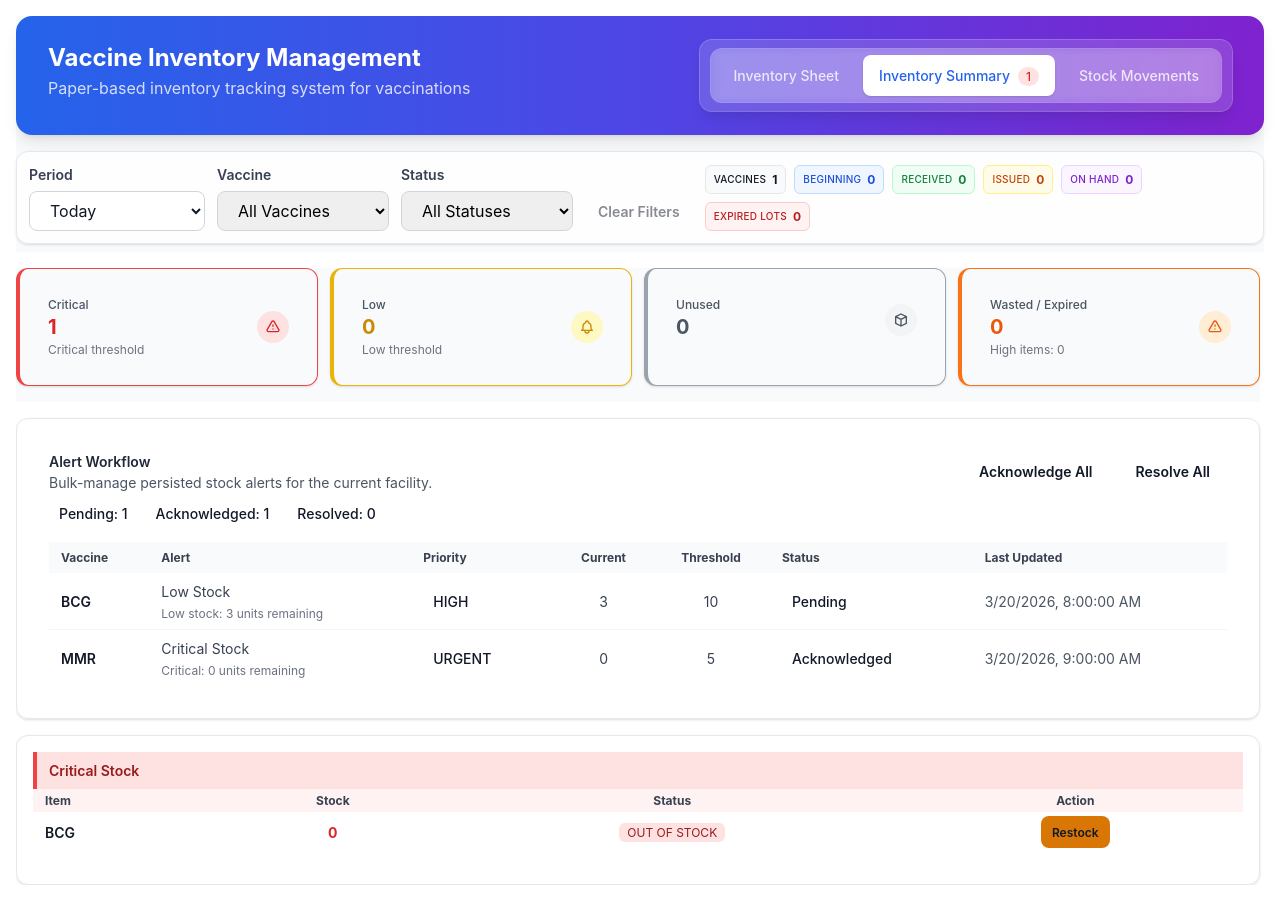
Test: Inventory Management stock-alert bulk actions › shows an error message when a bulk action fails
What coordinates should you click on to do the following:
click the button "Acknowledge All"
I would click on:
 (1036, 471)
Its box is [961,451,1110,491].
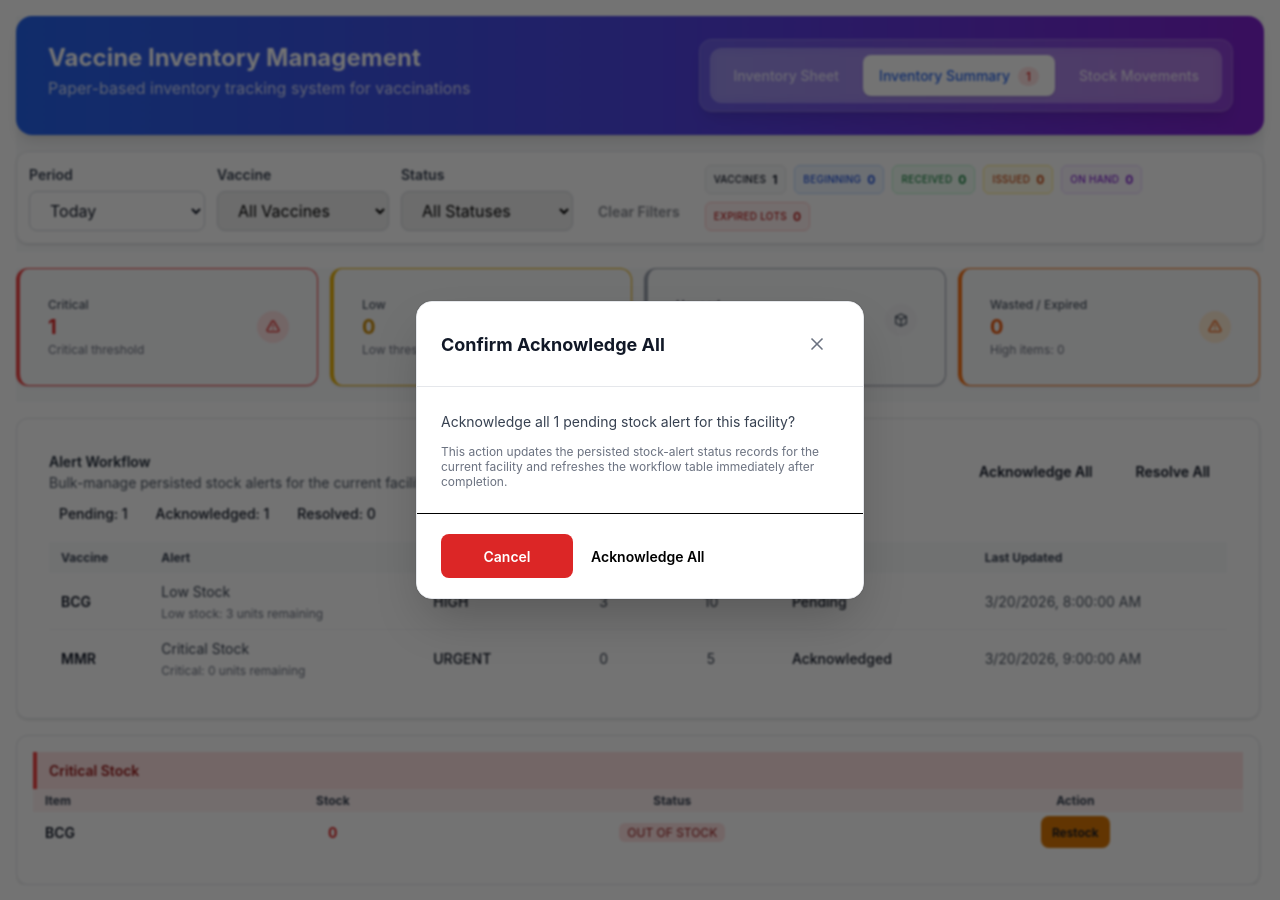
What coordinates should you click on to do the following:
click the button "Acknowledge All"
I would click on:
 (648, 556)
Its box is [573,534,722,578].
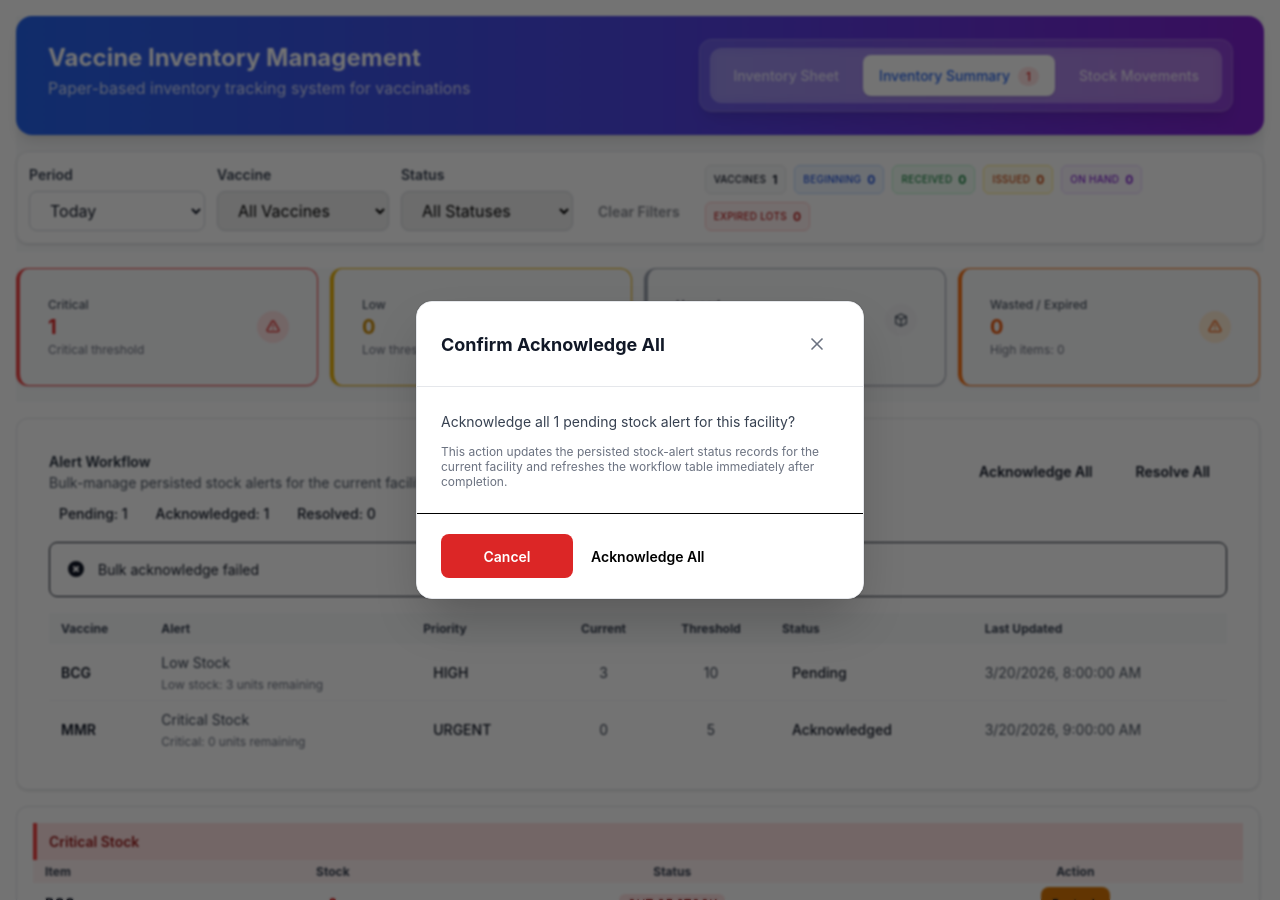
Expected: the text "Bulk acknowledge failed" is shown, [98,561,259,578]
